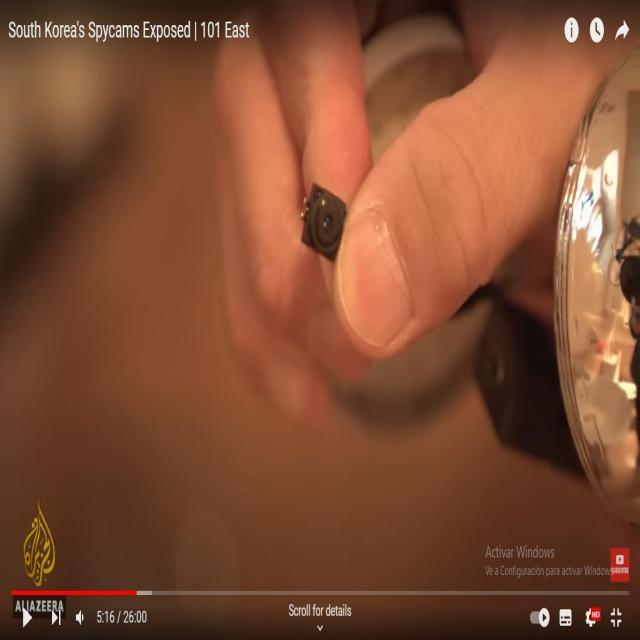hidden camera: (318, 195, 337, 242)
